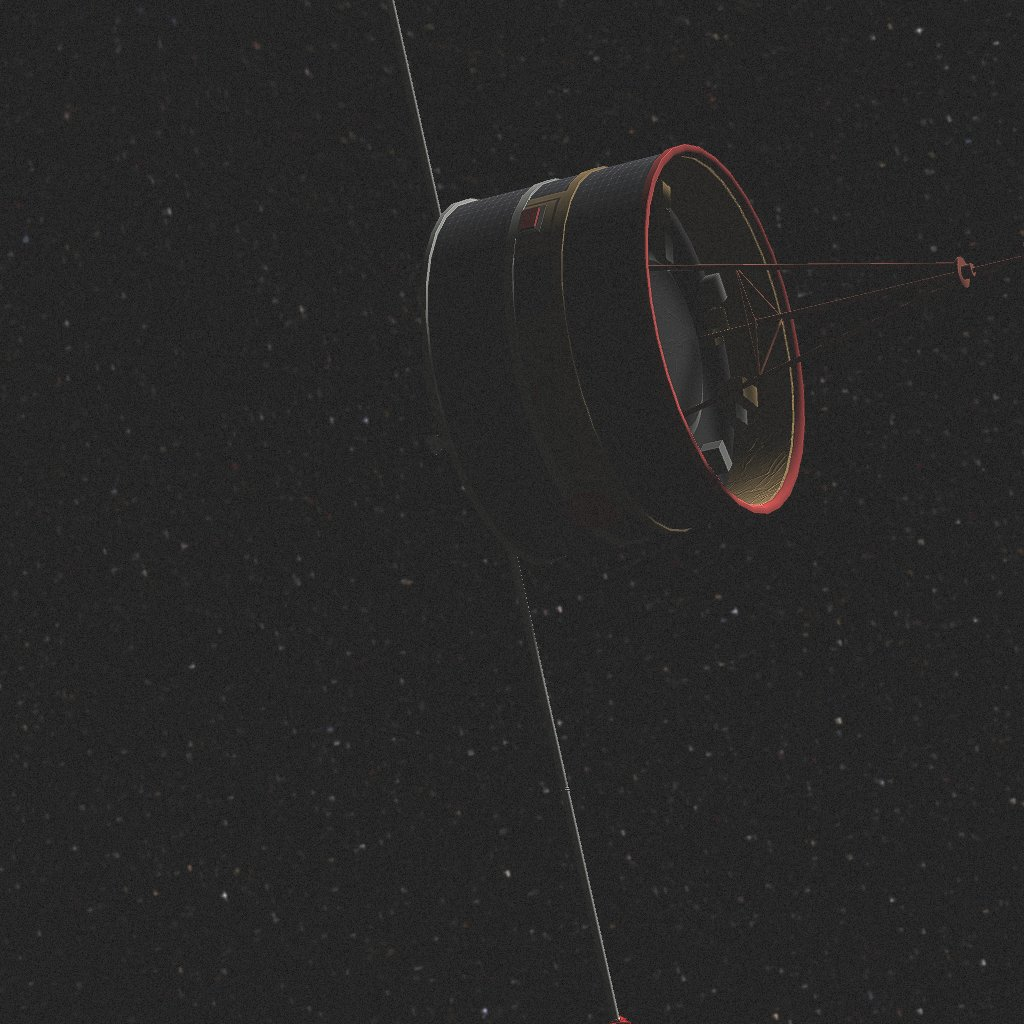double_star: (386, 0, 1024, 1024)
